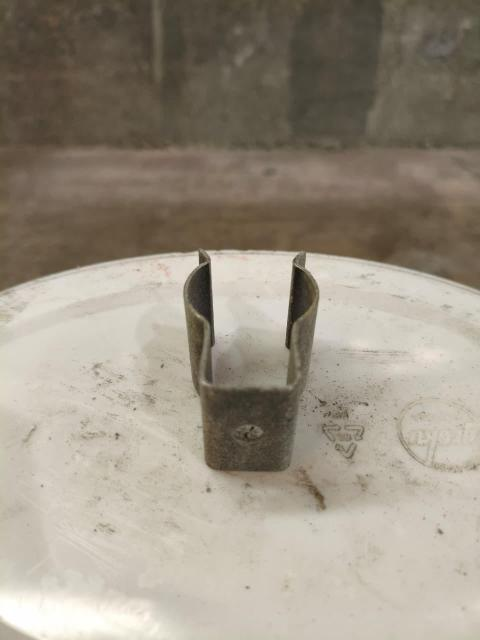Metal: (178, 245, 320, 478)
